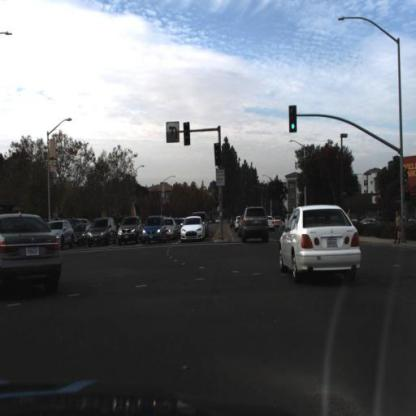car: (279, 205, 364, 293), (2, 204, 62, 294), (43, 217, 76, 250), (243, 205, 270, 241), (22, 214, 57, 241), (87, 218, 117, 248), (142, 214, 167, 247), (119, 212, 141, 248), (118, 215, 143, 245), (181, 215, 206, 240), (74, 223, 89, 249), (196, 211, 211, 237), (274, 206, 289, 232), (165, 217, 178, 244), (268, 207, 279, 237), (260, 206, 268, 231), (235, 213, 243, 236), (231, 211, 239, 232)
trafficLight-Green: (287, 99, 300, 139), (214, 143, 221, 170), (403, 168, 410, 187)
trafficLight-GreenLeft: (213, 138, 224, 171), (183, 121, 194, 148)
